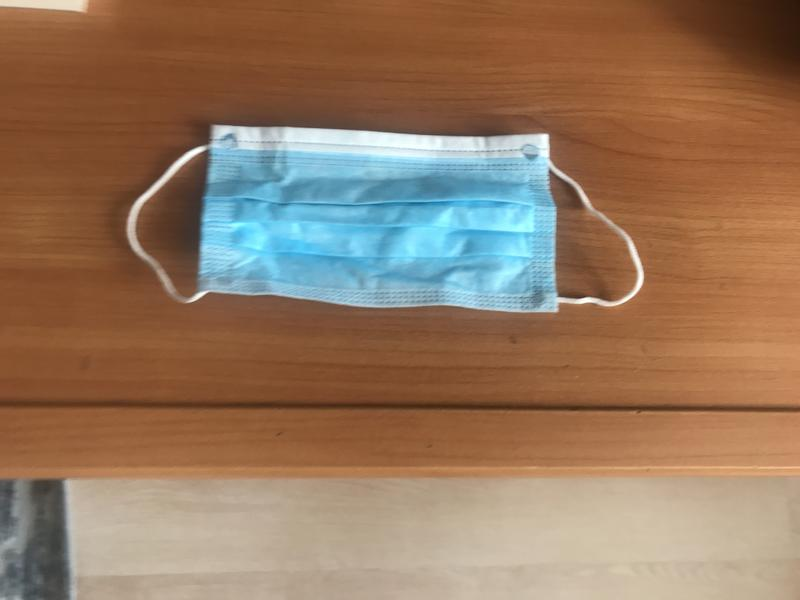medical_mask: (128, 121, 641, 307)
